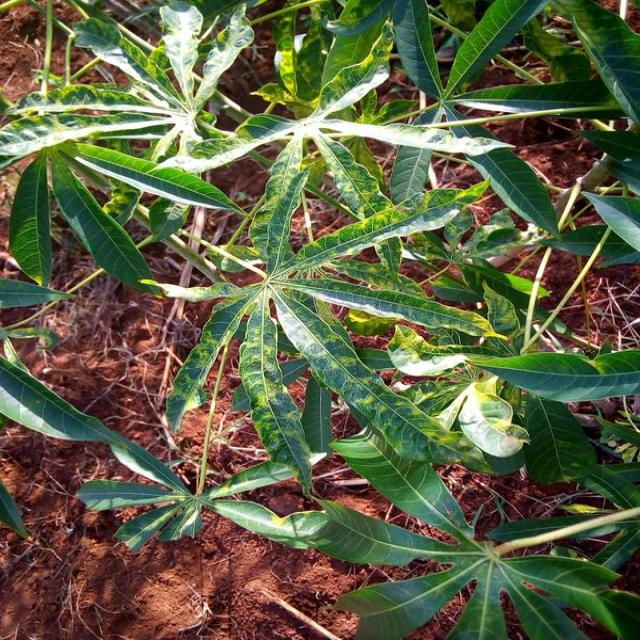Mosaico: (197, 77, 554, 268), (182, 185, 451, 409), (0, 0, 222, 160)
